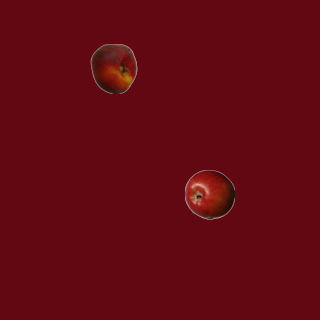Apple Braeburn: (184, 169, 234, 219)
Nectarine Flat: (88, 43, 138, 93)
